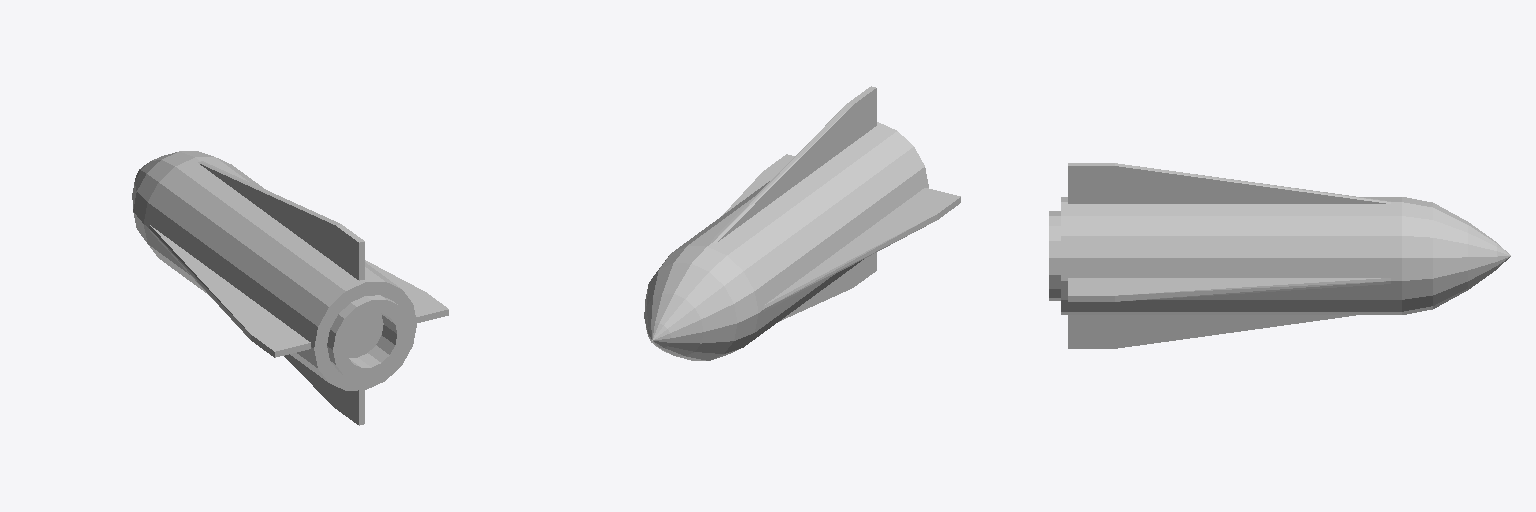
The model's file is missile.obj.
3 renders of one model, left to right at view 1: azimuth 30°, elevation 25°; view 2: azimuth 150°, elevation 25°; view 3: azimuth 270°, elevation 25°, orthographic.
Visible parts, largest first — view 1: missile_CUBezierCircle.001; view 2: missile_CUBezierCircle.001; view 3: missile_CUBezierCircle.001.
Boxes of the visible parts, x1,y1,x2,y2 form: missile_CUBezierCircle.001: [132, 151, 448, 425]; missile_CUBezierCircle.001: [644, 86, 960, 360]; missile_CUBezierCircle.001: [1049, 163, 1510, 348].
Bounding box in the file's own units: 1.18 × 1.18 × 2.71.